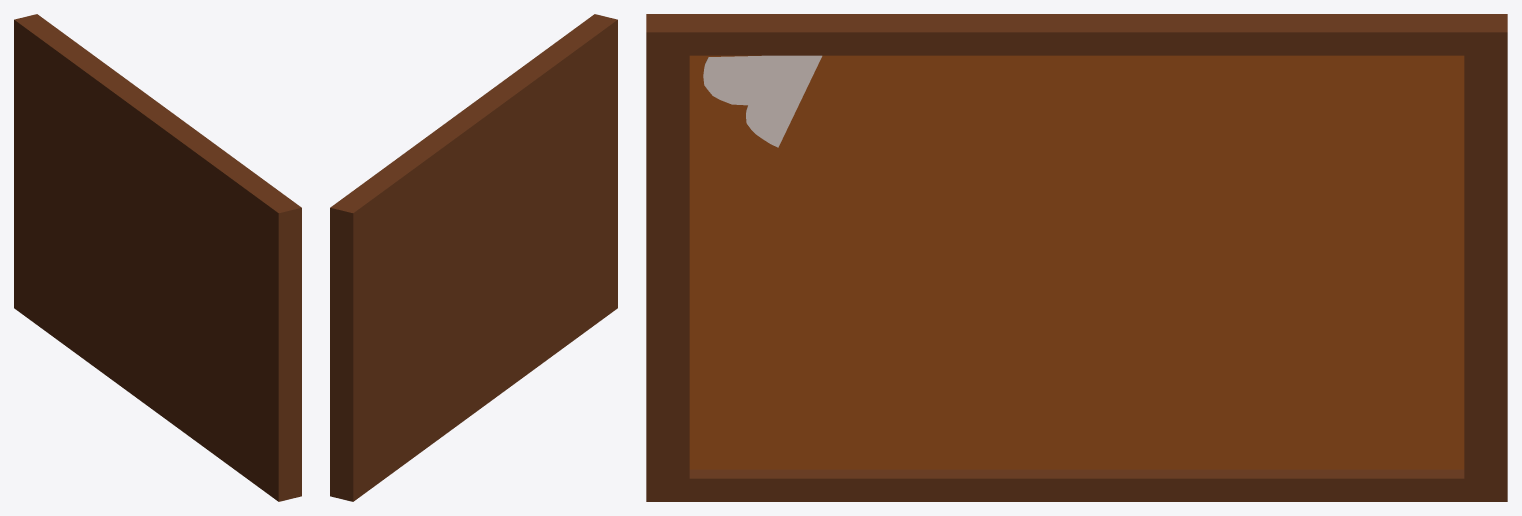
Rendered from PizarraBLANCO.fbx.
The picture shows the model from 3 angles, left to right: view 1: azimuth 30°, elevation 25°; view 2: azimuth 150°, elevation 25°; view 3: azimuth 270°, elevation 25°; orthographic projection. The views are drawn at different scales.
Visible parts, largest first — view 1: Cube; view 2: Cube; view 3: Cube.
Part boxes in pixels (x1,y1,x2,y2): Cube: [14, 14, 301, 501]; Cube: [330, 14, 617, 501]; Cube: [646, 14, 1507, 501].
Size of the model in its own units: 82.11 by 980 by 1629.
